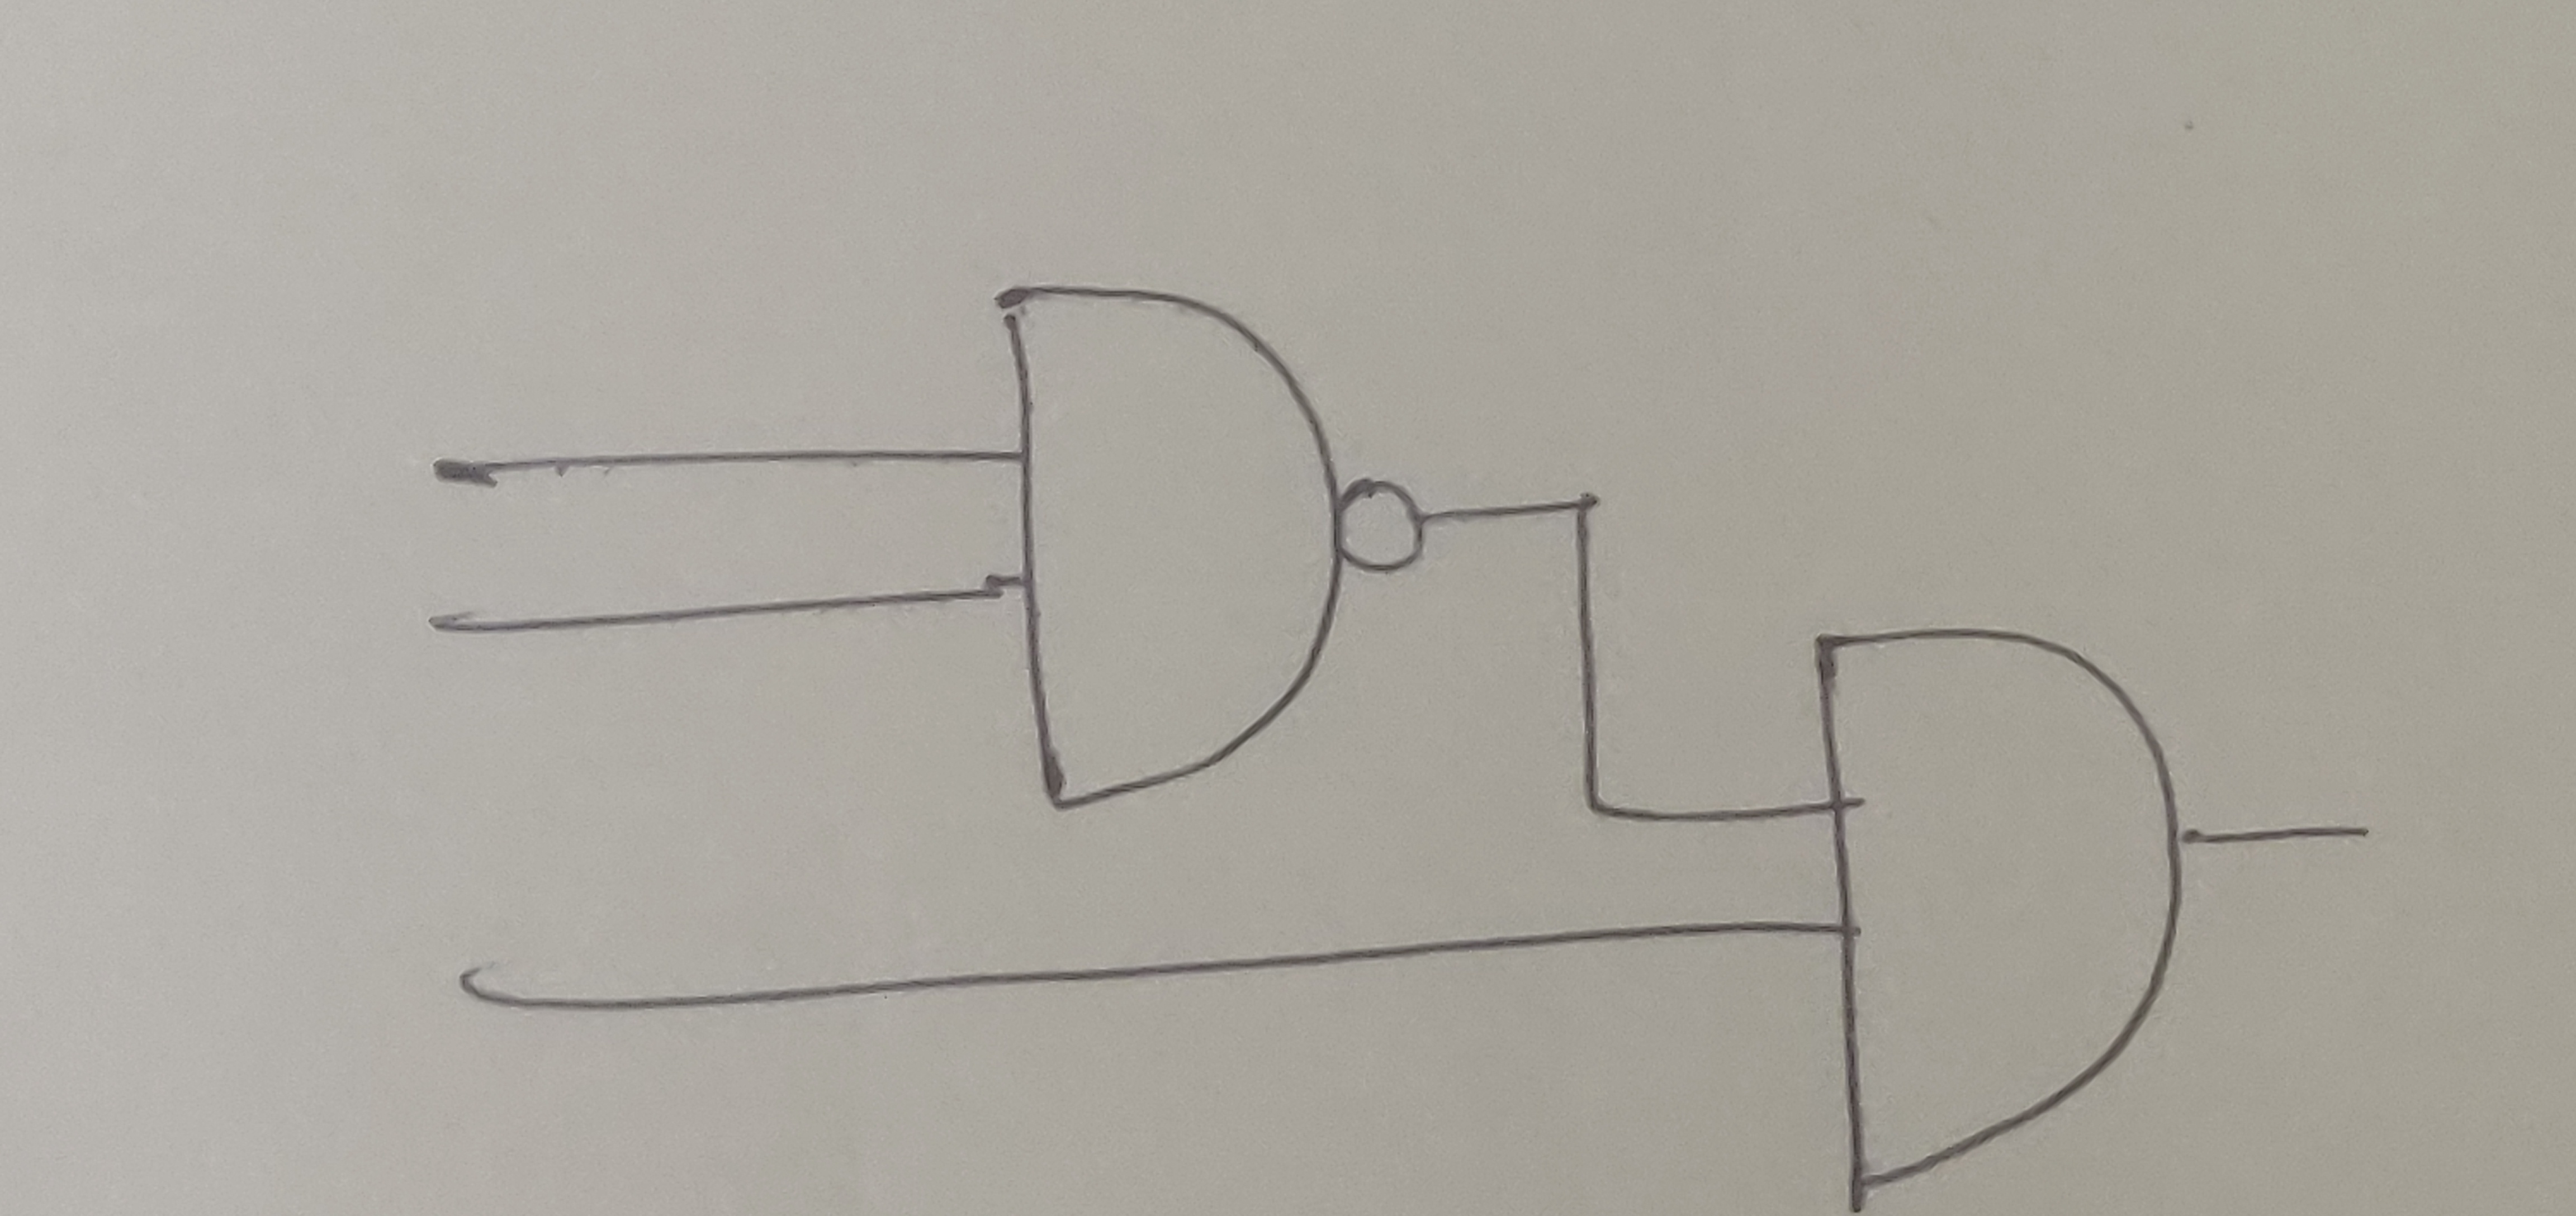and: (1810, 628, 2185, 1193), (989, 283, 1341, 805)
